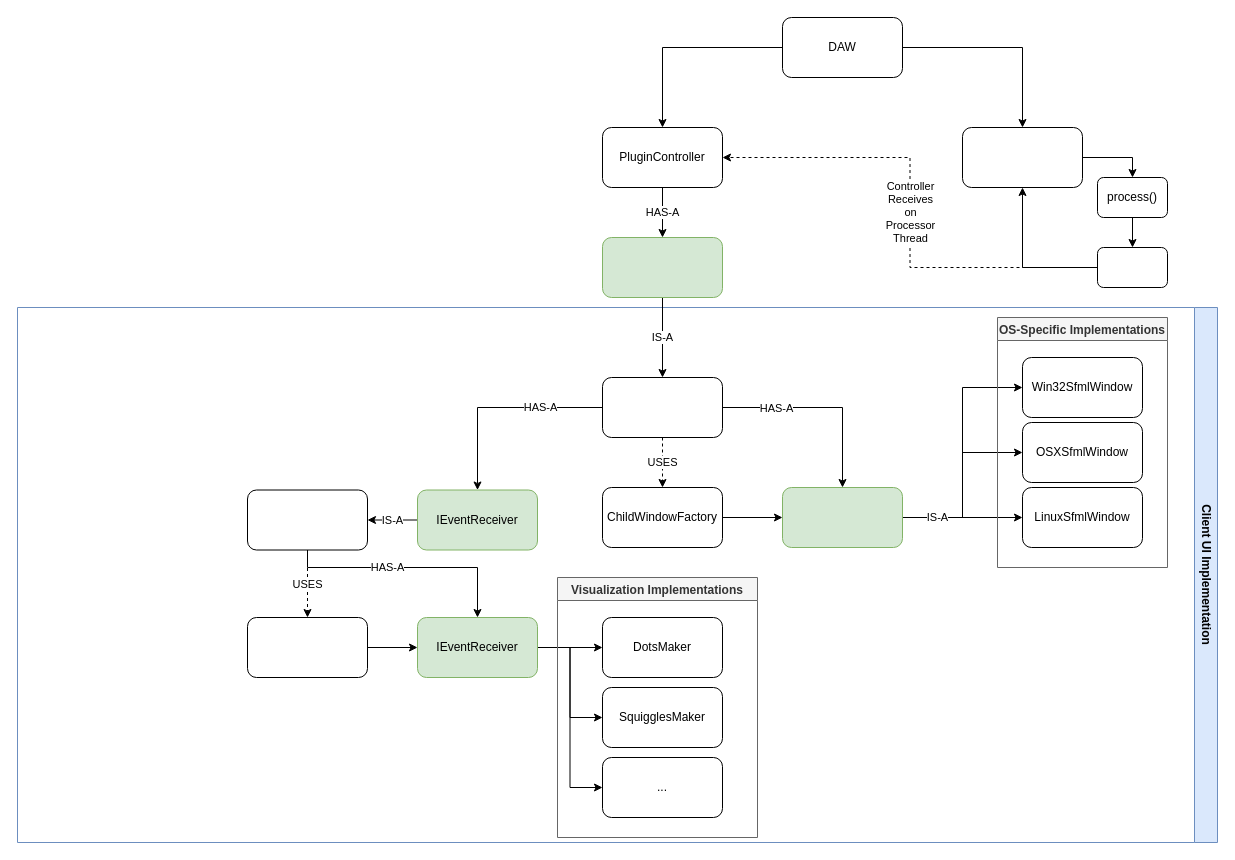
This 1235x860 diagram has some shape labels left out. Each missing label, with the centre of its shape:
EventDistributor: the point at 307,519
EventReceiverFactory: the point at 307,647
IChildWindow: the point at 842,517
IPlugView: the point at 662,267
notify(): the point at 1132,267
PluginProcessor: the point at 1022,157
VstPluginViewImpl: the point at 662,407
